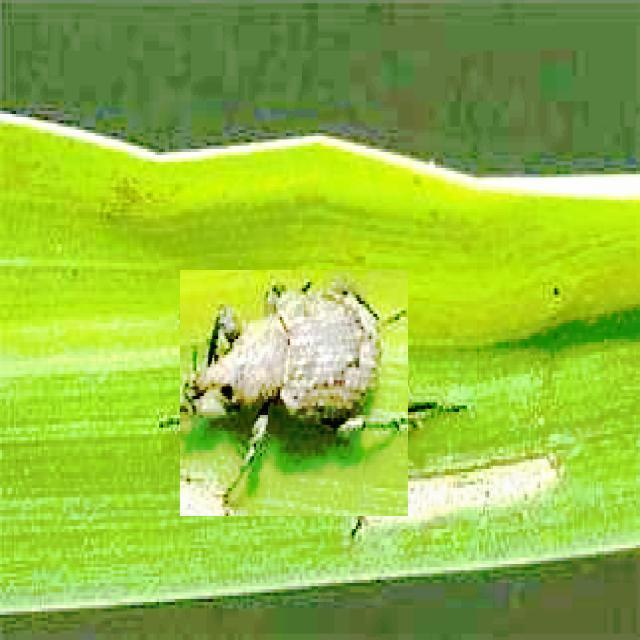rice-bug: (180, 270, 408, 516)
